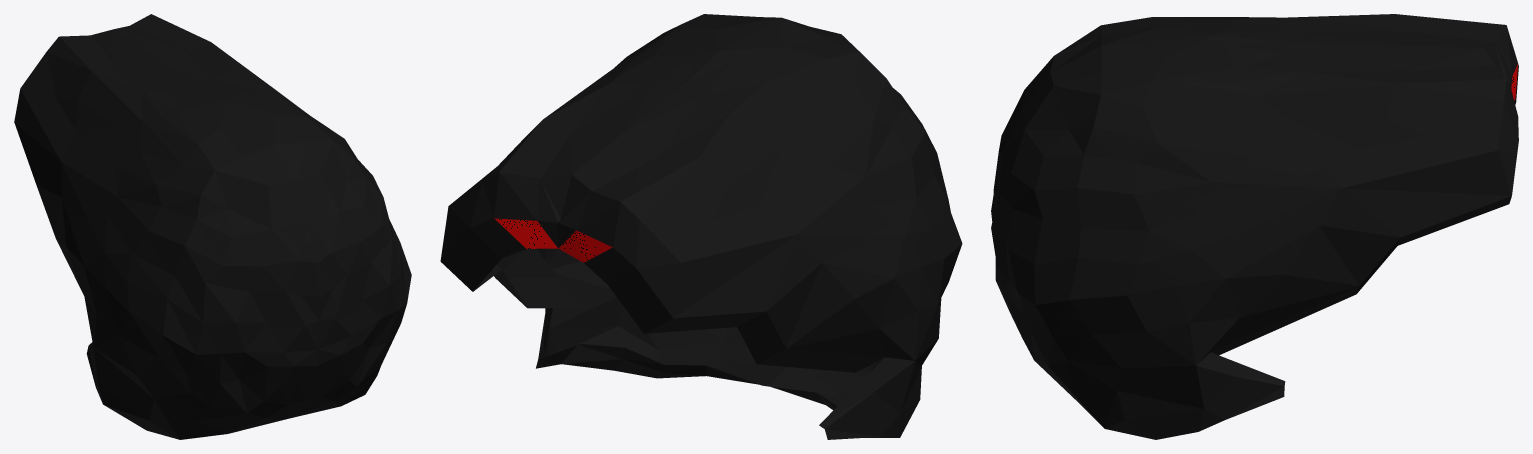
The model's file is ScientistHair.glb.
The picture shows the model from 3 angles, left to right: view 1: azimuth 30°, elevation 25°; view 2: azimuth 150°, elevation 25°; view 3: azimuth 270°, elevation 25°; orthographic projection. The views are drawn at different scales.
Visible parts, largest first — view 1: ScientistHair; view 2: ScientistHair; view 3: ScientistHair.
Part boxes in pixels (x1,y1,x2,y2): ScientistHair: (14,14,411,439); ScientistHair: (440,14,962,439); ScientistHair: (991,14,1518,439).
Bounding box in the file's own units: 0.2069 × 0.2027 × 0.2795.
Materials: 1 (1 with a texture image).
